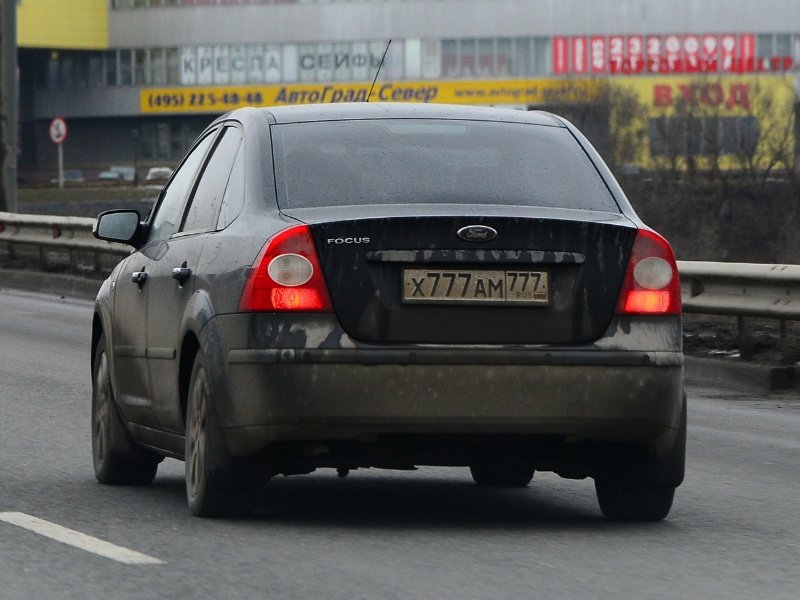car: (90, 101, 686, 520)
plate: (402, 267, 550, 303)
